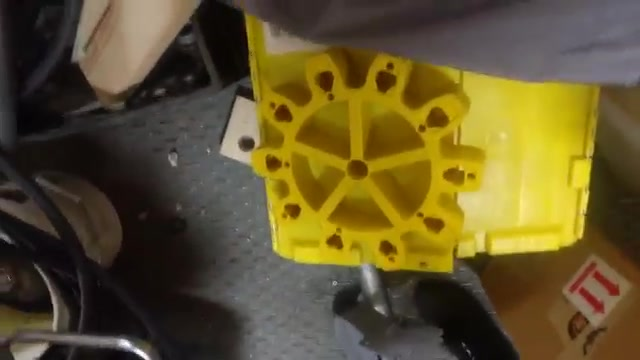gear: (246, 44, 489, 277)
